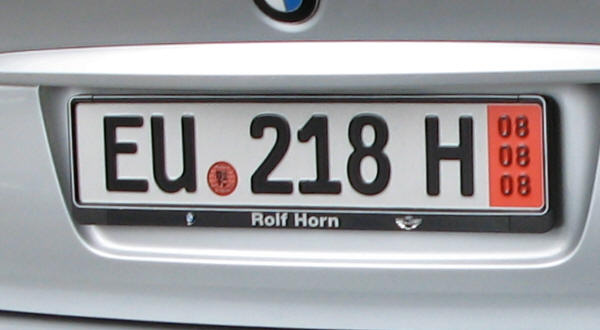license_plate: (70, 96, 546, 215)
